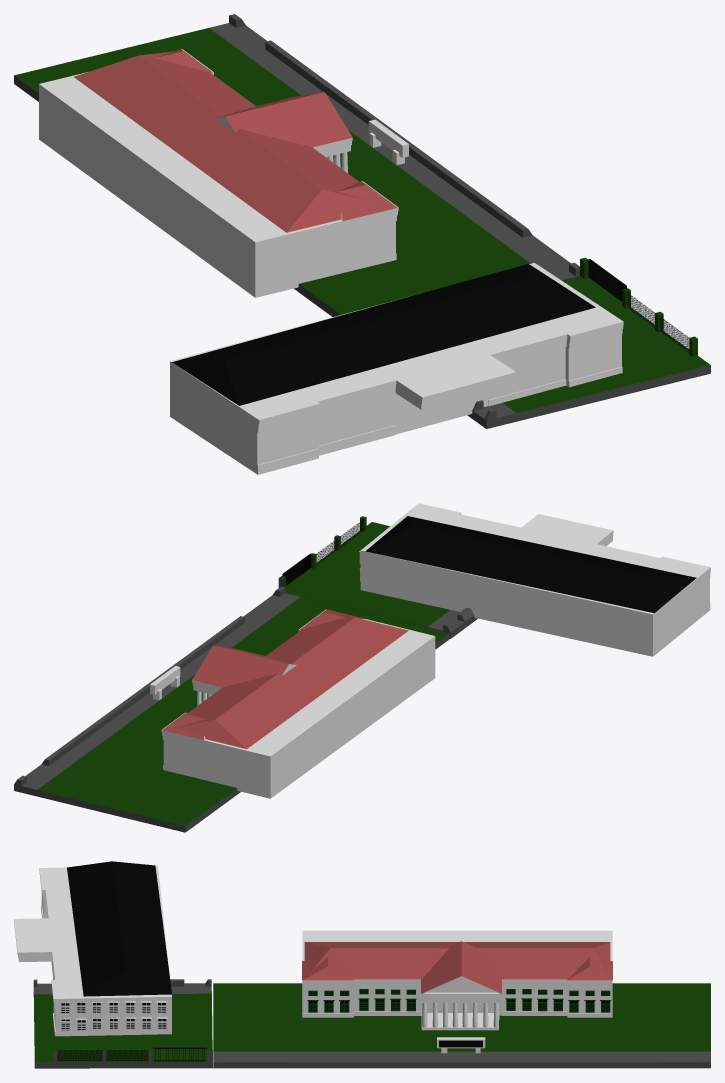
File: MuseumSeniRupadanKeramik.fbx
3 views of the same model, one above another, from view 1: azimuth 30°, elevation 25°; view 2: azimuth 150°, elevation 25°; view 3: azimuth 270°, elevation 25° (orthographic). The views are drawn at different scales.
Parts seen in each view (by area): view 1: Cube.036, Cube.034, Cube, Cube.051, Cube.033, Cube.052, Cube.030, Cube.031, Plane.002, Cube.035; view 2: Cube.034, Cube.036, Cube, Cube.051, Cube.033, Cube.052, Cube.030; view 3: Cube.034, Cube.051, Cube, Cube.052, Cube.036, Cube.033, Cube.030, Cube.001, Cube.031, Cube.032, Cube.035, Plane.001 (+2 smaller).
Boxes of the visible parts, x1,y1,x2,y2 form: Cube.036: [170, 263, 623, 474]; Cube.034: [14, 14, 579, 316]; Cube: [39, 49, 398, 297]; Cube.051: [172, 264, 595, 405]; Cube.033: [74, 51, 375, 232]; Cube.052: [467, 257, 710, 428]; Cube.030: [215, 92, 352, 147]; Cube.031: [338, 181, 397, 220]; Plane.002: [588, 259, 626, 301]; Cube.035: [368, 119, 408, 157]; Cube.034: [14, 586, 449, 832]; Cube.036: [360, 503, 710, 656]; Cube: [161, 609, 435, 798]; Cube.051: [365, 516, 696, 613]; Cube.033: [173, 612, 408, 748]; Cube.052: [278, 516, 477, 638]; Cube.030: [192, 645, 296, 687]; Cube.034: [213, 983, 710, 1068]; Cube.051: [67, 861, 171, 996]; Cube: [302, 930, 612, 1017]; Cube.052: [33, 979, 212, 1068]; Cube.036: [14, 865, 171, 1036]; Cube.033: [304, 942, 610, 979]; Cube.030: [421, 941, 501, 993]; Cube.001: [421, 1013, 498, 1030]; Cube.031: [302, 957, 353, 980]; Cube.032: [567, 957, 612, 980]; Cube.035: [437, 1037, 485, 1048]; Plane.001: [57, 1050, 102, 1060].
Bounding box in the file's own units: 11167 × 2007 × 20632.
